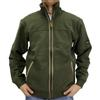abbigliamento_uomo: (10, 4, 90, 99)
